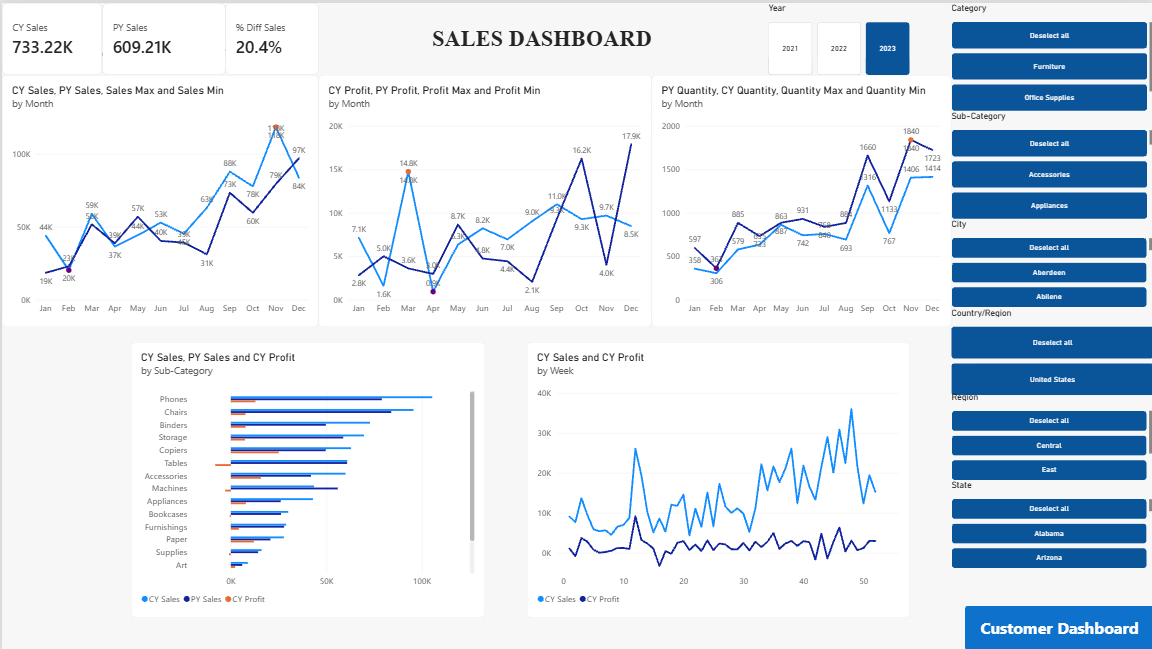

The dashboard page shown, as its layout file describes it:
{"tool":"powerbi","page":{"name":"Sales Dashboard","canvas":[1920,1080],"ordinal":0},"visuals":[{"type":"lineChart","fields":{"Category":["Calendar.Month"],"Y":["Orders.CY Sales","Orders.PY Sales","Orders.Sales Max","Orders.Sales Min"]},"box":[0,120,527.5,420],"z":0},{"type":"lineChart","fields":{"Category":["Calendar.Month"],"Y":["Orders.CY Profit","Orders.PY Profit","Orders.Profit Max","Orders.Profit Min"]},"box":[527.5,120,555,420],"z":1000},{"type":"lineChart","fields":{"Category":["Calendar.Month"],"Y":["Orders.PY Quantity","Orders.CY Quantity","Orders.Quantity Max","Orders.Quantity Min"]},"box":[1082.5,120,500,420],"z":2000},{"type":"cardVisual","fields":{"Data":["Orders.CY Sales"]},"box":[0,0,167.5,120],"z":3000},{"type":"cardVisual","fields":{"Data":["Orders.PY Sales"]},"box":[167.5,0,205,120],"z":4000},{"type":"cardVisual","fields":{"Data":["Orders.% Diff Sales"]},"box":[372.5,0,155,120],"z":5000},{"type":"advancedSlicerVisual","fields":{"Values":["Year Select.Year"]},"box":[1277.5,0,235,120],"z":6000},{"type":"clusteredBarChart","fields":{"Category":["Products.Sub-Category"],"Y":["Orders.CY Sales","Orders.PY Sales","Orders.CY Profit"]},"box":[215,565,590,460],"z":7000},{"type":"lineChart","fields":{"Category":["Calendar.Week"],"Y":["Orders.CY Sales","Orders.CY Profit"]},"box":[875,565,638,460],"z":8000},{"type":"advancedSlicerVisual","fields":{"Values":["Products.Category"]},"box":[1582.5,0,338,180],"z":9000},{"type":"advancedSlicerVisual","fields":{"Values":["Location.City"]},"box":[1582.5,360,337.5,147.5],"z":10000},{"type":"advancedSlicerVisual","fields":{"Values":["Location.Country/Region"]},"box":[1582.5,507.5,337.5,147.5],"z":11000},{"type":"advancedSlicerVisual","fields":{"Values":["Location.Region"]},"box":[1582.5,647.5,337.5,147.5],"z":12000},{"type":"advancedSlicerVisual","fields":{"Values":["Location.State"]},"box":[1582.5,795,337.5,147.5],"z":13000},{"type":"advancedSlicerVisual","fields":{"Values":["Products.Sub-Category"]},"box":[1582.5,180,338,180],"z":14000},{"type":"textbox","box":[0,565,215,460],"z":15000},{"type":"textbox","box":[527.5,37.5,745,82.5],"z":16000},{"type":"actionButton","box":[1605,1005,315,75],"z":16001}]}

Visuals, with their boxes in screenshot pixels (x1, y1, x2, y2), scaled from the page's 1920x1080 canvas onto the 1152x649 screenshot:
lineChart - Calendar.Month x Orders.CY Sales: pyautogui.locateOnScreen(0, 72, 316, 324)
lineChart - Calendar.Month x Orders.CY Profit: pyautogui.locateOnScreen(316, 72, 650, 324)
lineChart - Calendar.Month x Orders.PY Quantity: pyautogui.locateOnScreen(650, 72, 950, 324)
cardVisual - Orders.CY Sales: pyautogui.locateOnScreen(0, 0, 100, 72)
cardVisual - Orders.PY Sales: pyautogui.locateOnScreen(100, 0, 224, 72)
cardVisual - Orders.% Diff Sales: pyautogui.locateOnScreen(224, 0, 316, 72)
advancedSlicerVisual - Year Select.Year: pyautogui.locateOnScreen(766, 0, 908, 72)
clusteredBarChart - Products.Sub-Category x Orders.CY Sales: pyautogui.locateOnScreen(129, 340, 483, 616)
lineChart - Calendar.Week x Orders.CY Sales: pyautogui.locateOnScreen(525, 340, 908, 616)
advancedSlicerVisual - Products.Category: pyautogui.locateOnScreen(950, 0, 1151, 108)
advancedSlicerVisual - Location.City: pyautogui.locateOnScreen(950, 216, 1151, 305)
advancedSlicerVisual - Location.Country/Region: pyautogui.locateOnScreen(950, 305, 1151, 394)
advancedSlicerVisual - Location.Region: pyautogui.locateOnScreen(950, 389, 1151, 478)
advancedSlicerVisual - Location.State: pyautogui.locateOnScreen(950, 478, 1151, 566)
advancedSlicerVisual - Products.Sub-Category: pyautogui.locateOnScreen(950, 108, 1151, 216)
textbox: pyautogui.locateOnScreen(0, 340, 129, 616)
textbox: pyautogui.locateOnScreen(316, 23, 764, 72)
actionButton: pyautogui.locateOnScreen(963, 604, 1151, 648)
